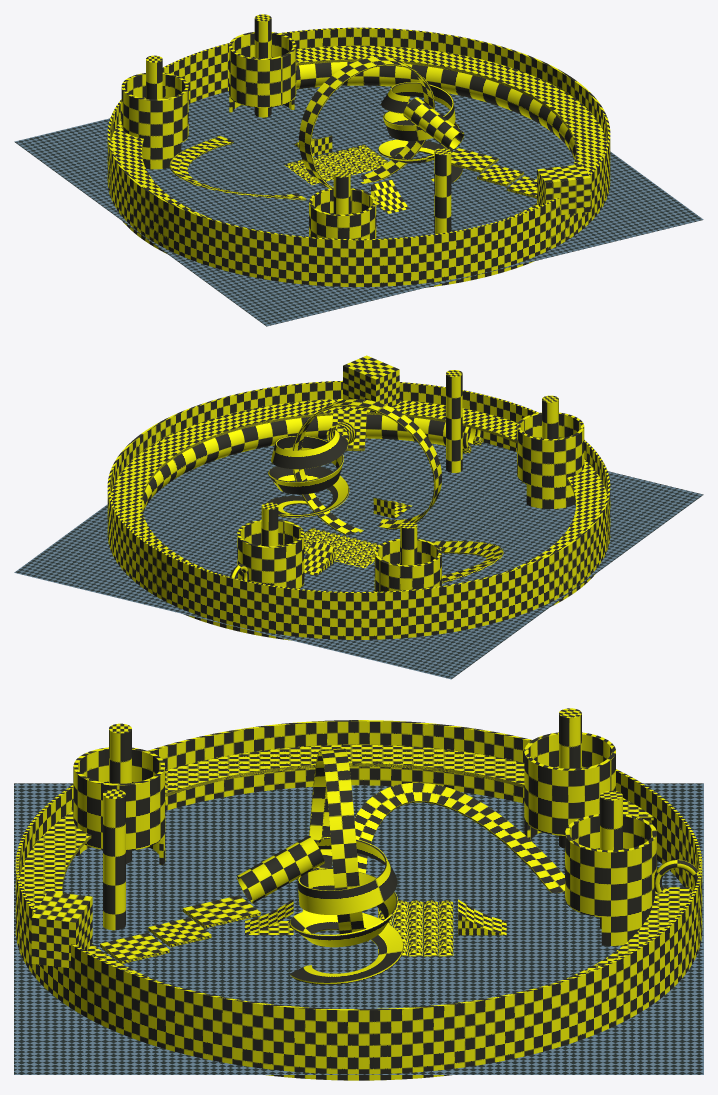
File: escenarioFull.fbx
The picture shows the model from 3 angles, top to bottom: view 1: azimuth 30°, elevation 25°; view 2: azimuth 150°, elevation 25°; view 3: azimuth 270°, elevation 25°; orthographic projection. The views are drawn at different scales.
Visible parts, largest first — view 1: Cube_4; view 2: Cube_4; view 3: Cube_4.
Boxes of the visible parts, left/top/right/bottom form: Cube_4: left=14, top=14, right=703, bottom=326; Cube_4: left=14, top=355, right=703, bottom=679; Cube_4: left=14, top=708, right=703, bottom=1080.
Size of the model in its own units: 3000 by 1016 by 3000.
11 materials, 11 textured.
